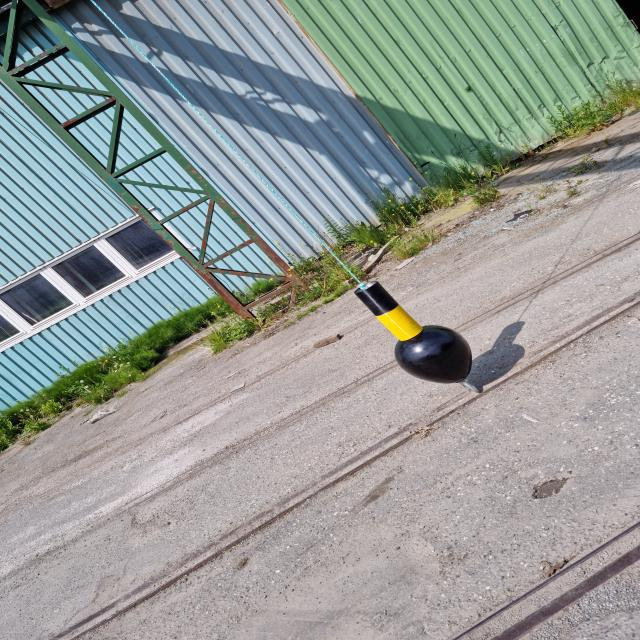east: (354, 280, 472, 385)
